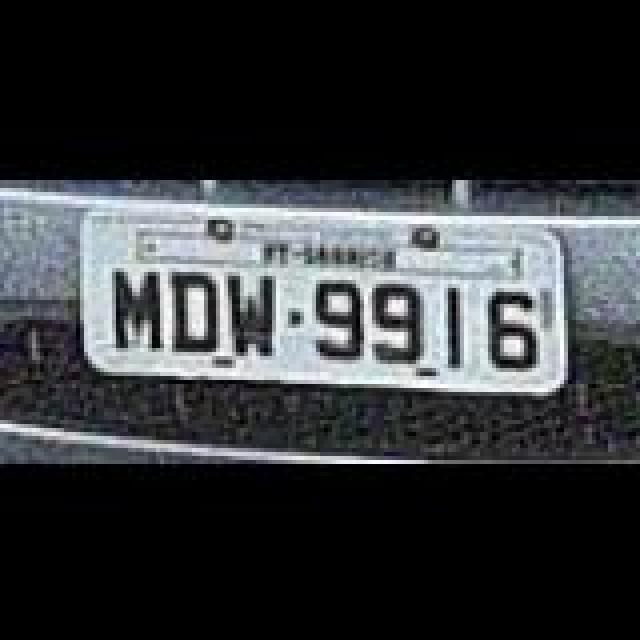1: (444, 284, 468, 364)
6: (488, 288, 544, 368)
9: (314, 274, 366, 358), (374, 280, 426, 360)
D: (170, 270, 222, 354)
M: (114, 266, 166, 350)
W: (226, 270, 278, 354)
